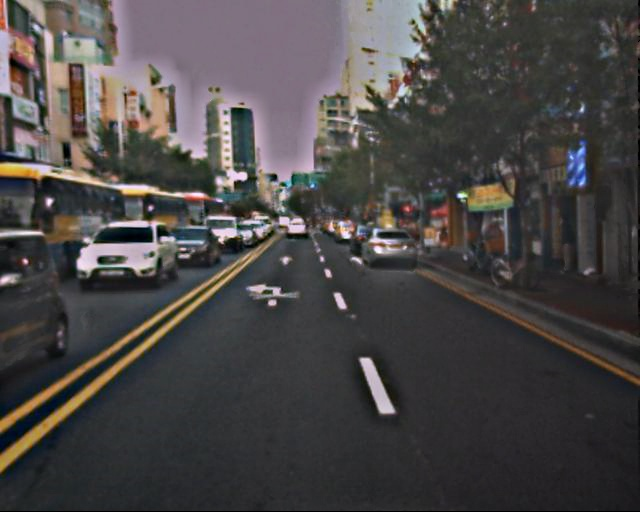person: (550, 213, 577, 274)
